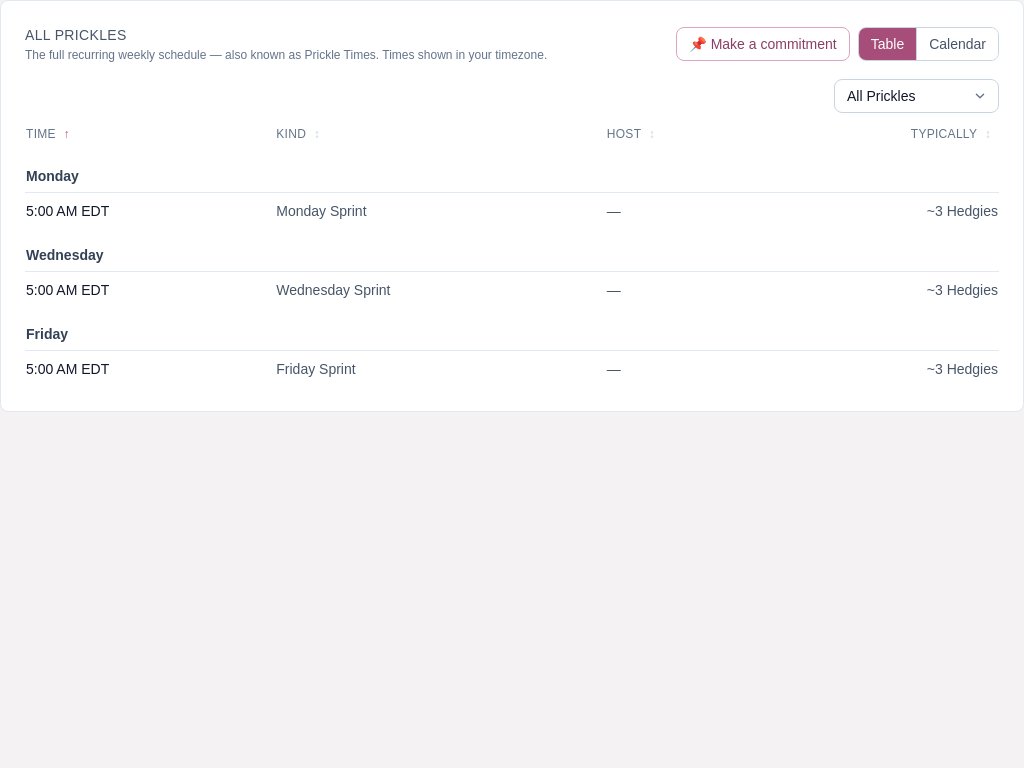
Test: All Prickles commit mode › multi-selects slots from the table, then commits them all for the chosen number of weeks
Click the button "📌 Make a commitment" at [763, 44], box [676,27,850,61]
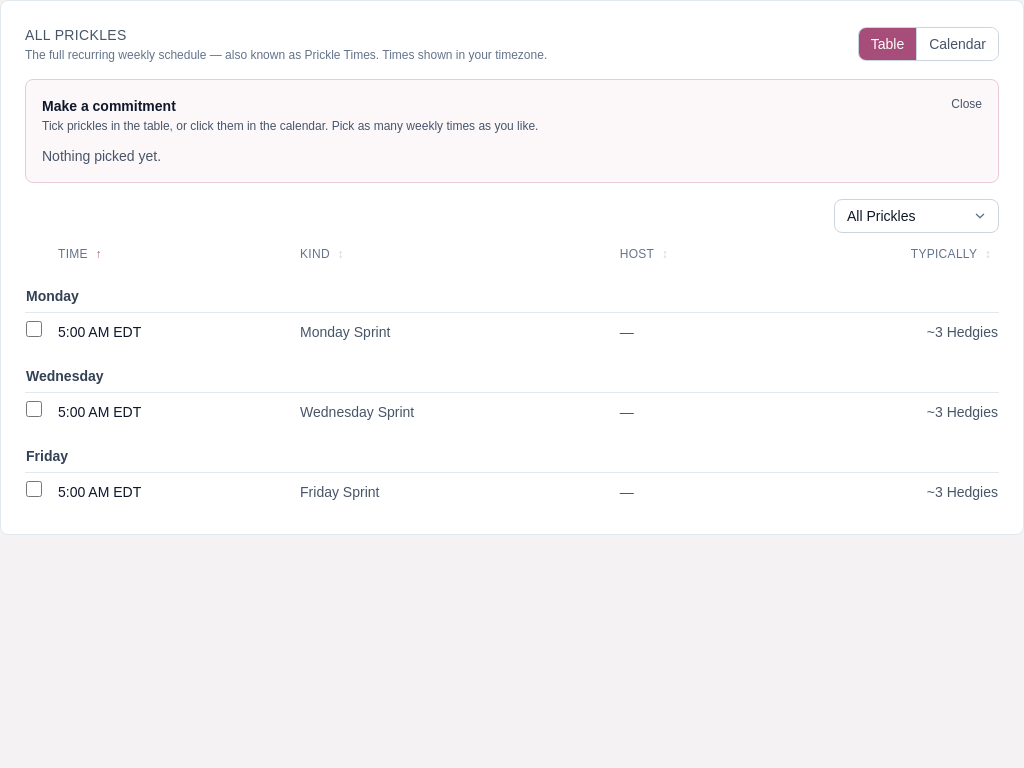
Click the checkbox named "Commit to Friday 5:00 AM EDT Friday Sprint" at [34, 489], box [26,481,42,497]
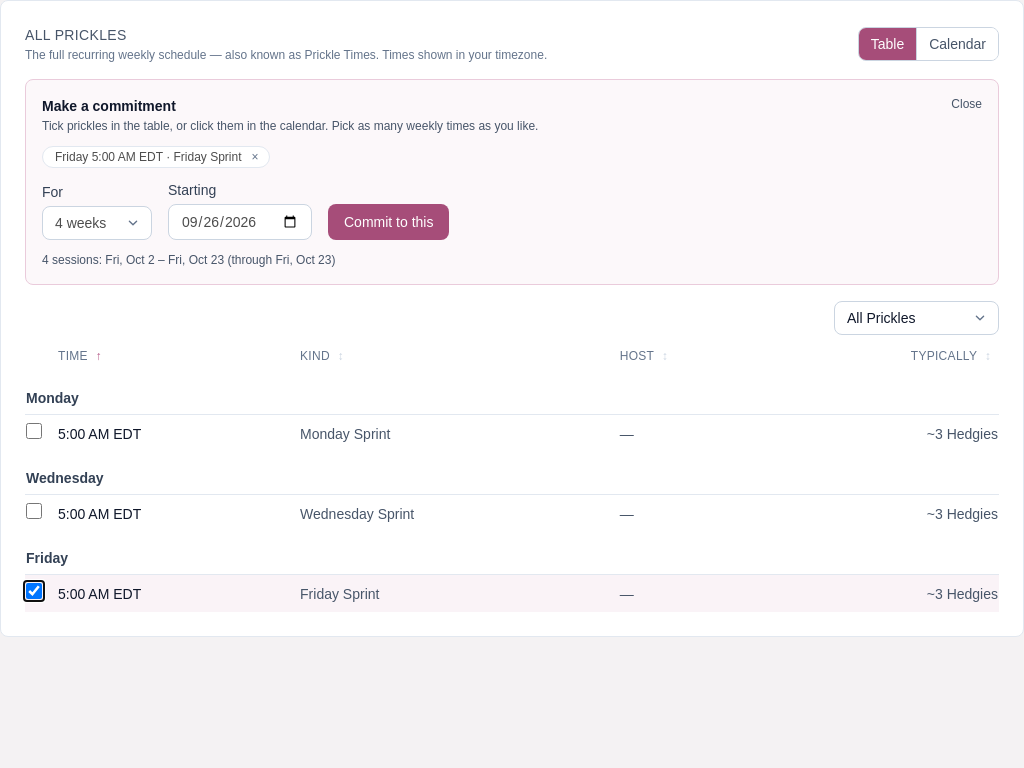
Click the checkbox named "Commit to Monday 5:00 AM EDT Monday Sprint" at [34, 431], box [26,423,42,439]
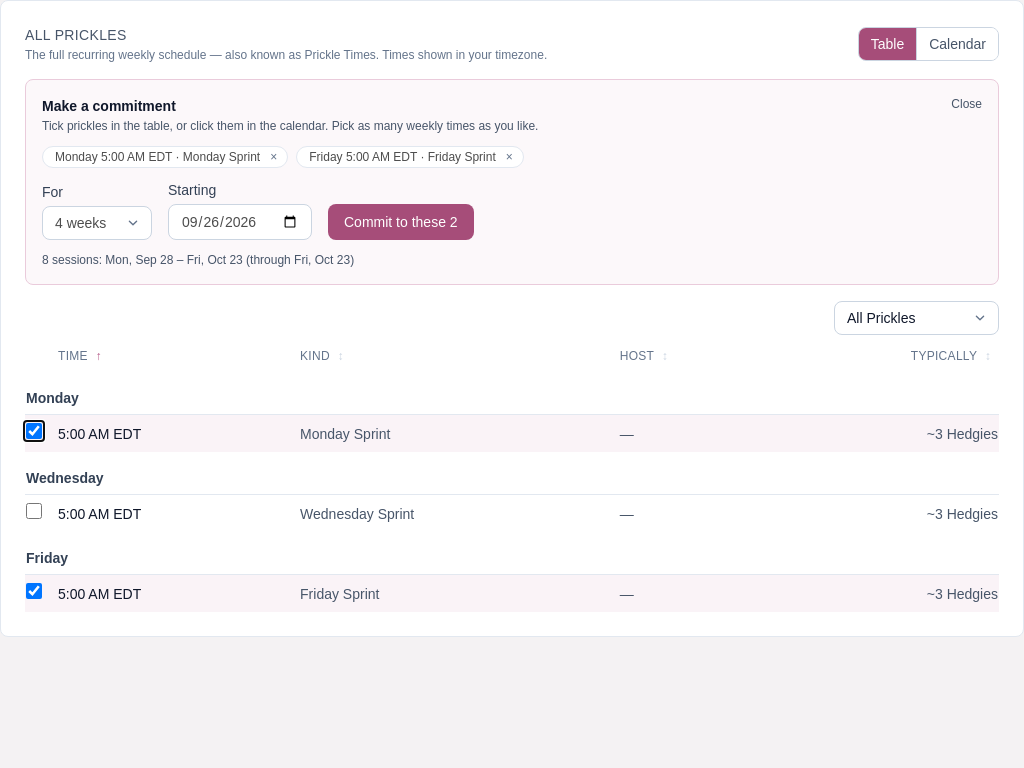
Click the checkbox named "Commit to Wednesday 5:00 AM EDT Wednesday Sprint" at [34, 511], box [26,503,42,519]
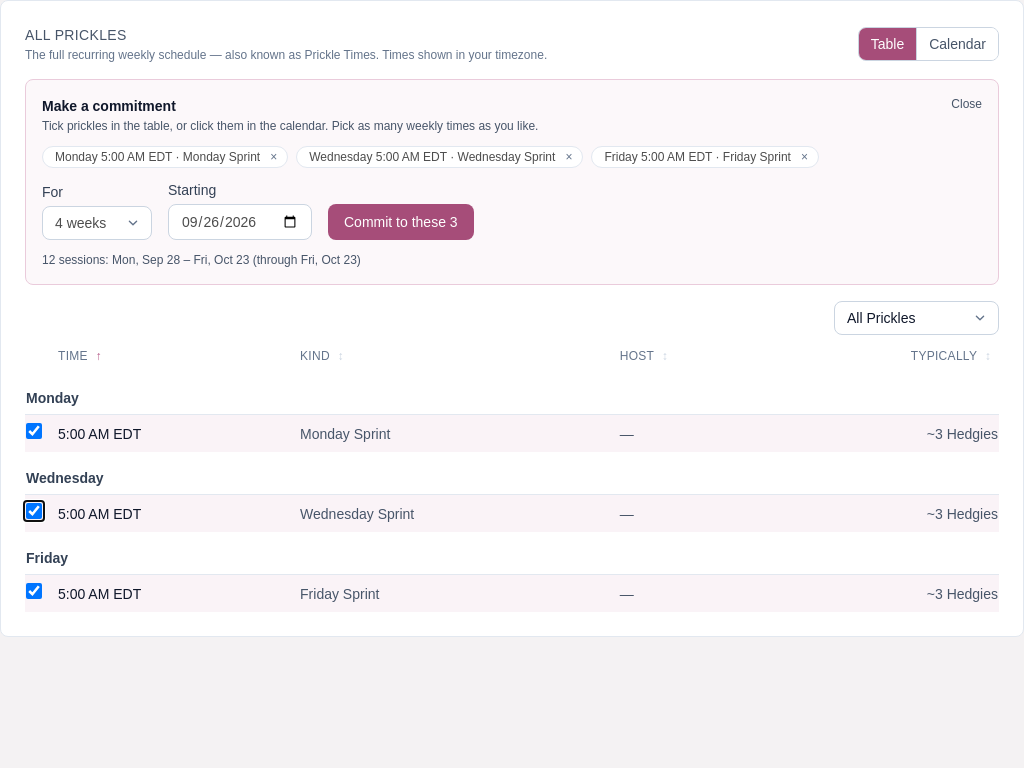
Now the dropdown labelled "For" shows "4 weeks"
Now the date field labelled "Starting" holds "2026-09-26", box [168,204,312,240]
Select "2 weeks" in the dropdown labelled "For" at [97, 223], box [42,206,152,240]
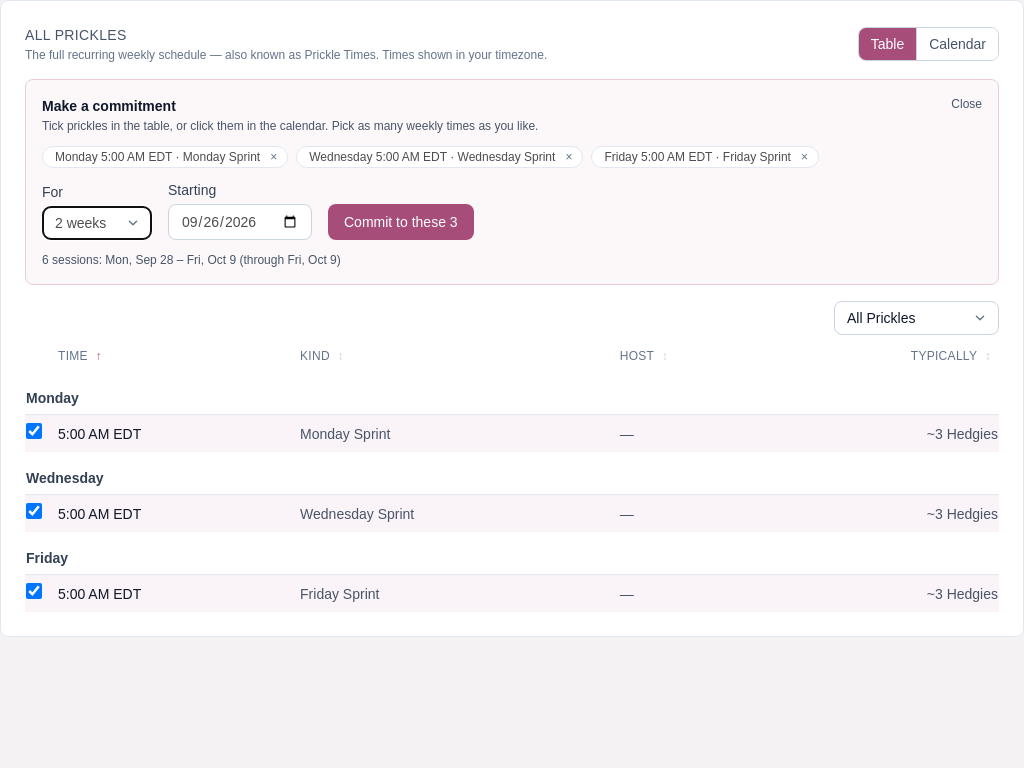
Now the text "6 sessions: Mon, Sep 28 – Fri, Oct 9 (through Fri, Oct 9)" is shown, box [42,253,341,267]
Click the button "Commit to these 3" at [401, 222], box [328,204,474,240]
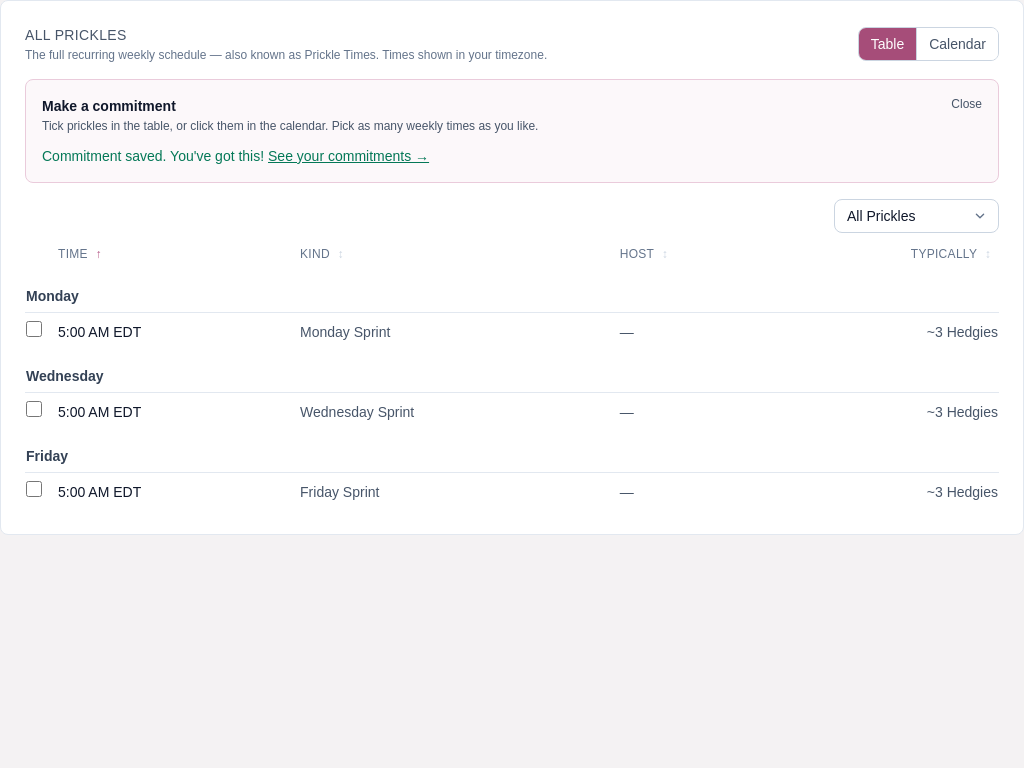
Now the text "Commitment saved. You've got this! See your commitments →" is shown, box [42,148,429,164]
